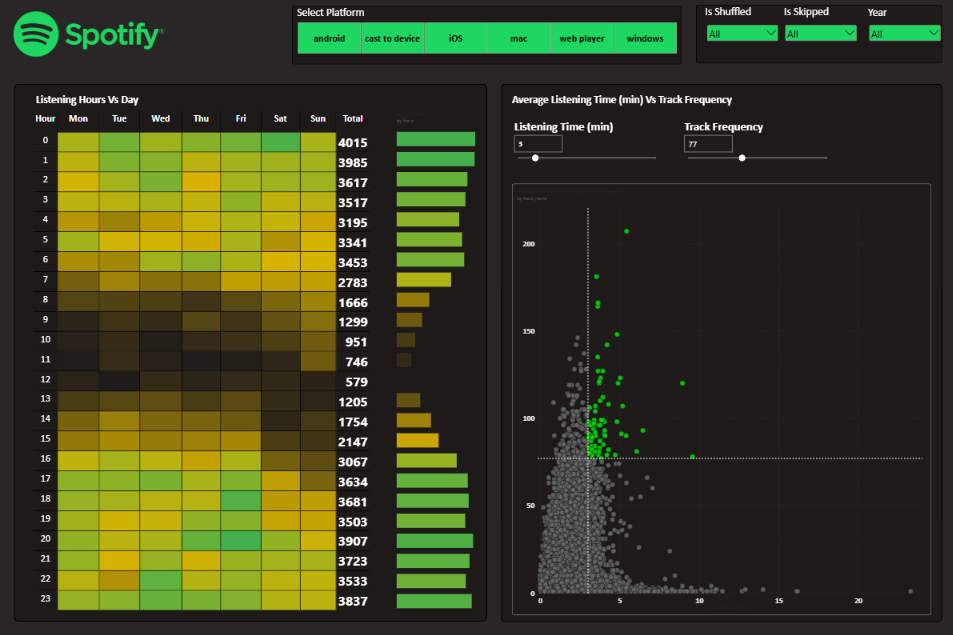

The dashboard page shown, as its layout file describes it:
{"tool":"powerbi","page":{"name":"Listening Patterns","canvas":[3300,2200],"ordinal":1},"visuals":[{"type":"shape","box":[1009.9,44.4,1330,200],"z":0},{"type":"image","box":[31.8,46,575,200],"z":1000},{"type":"slicer","fields":{"Values":["spotify_history.platform"]},"box":[1009.9,85.3,1330.7,122.8],"z":2000},{"type":"shape","box":[60,310,1615,1835],"z":3000},{"type":"textbox","box":[1027,44.4,426.5,51.2],"z":4000},{"type":"shape","box":[2390,40,840,200],"z":5000},{"type":"slicer","fields":{"Values":["spotify_history.shuffle"]},"box":[2423.3,106.7,250,103.3],"z":6000},{"type":"slicer","fields":{"Values":["spotify_history.skipped"]},"box":[2690,106.7,252.5,102.4],"z":7000},{"type":"textbox","box":[2420,40,252.5,47.8],"z":8000},{"type":"textbox","box":[2690,40,252.5,54.6],"z":9000},{"type":"pivotTable","fields":{"Rows":["spotify_history.Hour"],"Columns":["Date Table.Day Name"],"Values":["spotify_history.No of tracks"]},"box":[113.3,390,1185,1755],"z":10000},{"type":"barChart","fields":{"Category":["spotify_history.Hour"],"Y":["spotify_history.No of tracks"]},"box":[1350,390,300,1730],"z":11000},{"type":"textbox","box":[136.7,340,426.5,51.2],"z":12000},{"type":"shape","box":[1723.3,310,1506.7,1836.7],"z":13000},{"type":"scatterChart","fields":{"X":["spotify_history.Avg Listening Time (min)"],"Y":["spotify_history.Track Frequency"],"Category":["spotify_history.track_name"]},"box":[1760,650,1430,1470],"z":14000},{"type":"slicer","fields":{"Values":["Listening Time (min).Listening Time (min)"]},"box":[1760,430,506.7,220],"z":15000},{"type":"slicer","fields":{"Values":["Track Frequency (Parameter).Track Frequency (Parameter)"]},"box":[2340,430,510,220],"z":16000},{"type":"textbox","box":[1760,340,930,50],"z":17000},{"type":"slicer","fields":{"Values":["Date Table.Year"]},"box":[2976.7,106.7,252.5,102.4],"z":18000},{"type":"textbox","box":[2976.7,43.3,252.5,54.6],"z":19000}]}

Visuals, with their boxes in screenshot pixels (x1, y1, x2, y2), scaled from the page's 3300x2200 canvas onto the 953x635 screenshot:
shape: {"x1": 292, "y1": 13, "x2": 676, "y2": 71}
image: {"x1": 9, "y1": 13, "x2": 175, "y2": 71}
slicer - spotify_history.platform: {"x1": 292, "y1": 25, "x2": 676, "y2": 60}
shape: {"x1": 17, "y1": 89, "x2": 484, "y2": 619}
textbox: {"x1": 297, "y1": 13, "x2": 420, "y2": 28}
shape: {"x1": 690, "y1": 12, "x2": 933, "y2": 69}
slicer - spotify_history.shuffle: {"x1": 700, "y1": 31, "x2": 772, "y2": 61}
slicer - spotify_history.skipped: {"x1": 777, "y1": 31, "x2": 850, "y2": 60}
textbox: {"x1": 699, "y1": 12, "x2": 772, "y2": 25}
textbox: {"x1": 777, "y1": 12, "x2": 850, "y2": 27}
pivotTable - spotify_history.Hour x Date Table.Day Name: {"x1": 33, "y1": 113, "x2": 375, "y2": 619}
barChart - spotify_history.Hour x spotify_history.No of tracks: {"x1": 390, "y1": 113, "x2": 477, "y2": 612}
textbox: {"x1": 39, "y1": 98, "x2": 163, "y2": 113}
shape: {"x1": 498, "y1": 89, "x2": 933, "y2": 620}
scatterChart - spotify_history.Avg Listening Time (min) x spotify_history.Track Frequency: {"x1": 508, "y1": 188, "x2": 921, "y2": 612}
slicer - Listening Time (min).Listening Time (min): {"x1": 508, "y1": 124, "x2": 655, "y2": 188}
slicer - Track Frequency (Parameter).Track Frequency (Parameter): {"x1": 676, "y1": 124, "x2": 823, "y2": 188}
textbox: {"x1": 508, "y1": 98, "x2": 777, "y2": 113}
slicer - Date Table.Year: {"x1": 860, "y1": 31, "x2": 933, "y2": 60}
textbox: {"x1": 860, "y1": 12, "x2": 933, "y2": 28}
